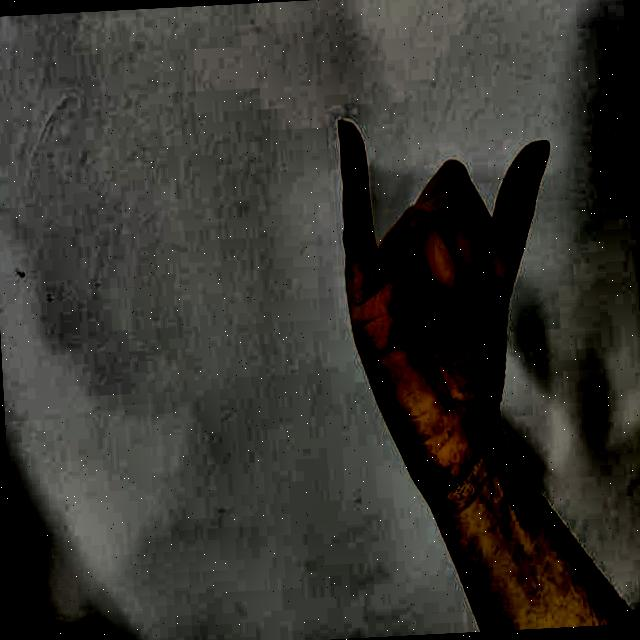Oi: (299, 84, 585, 523)
